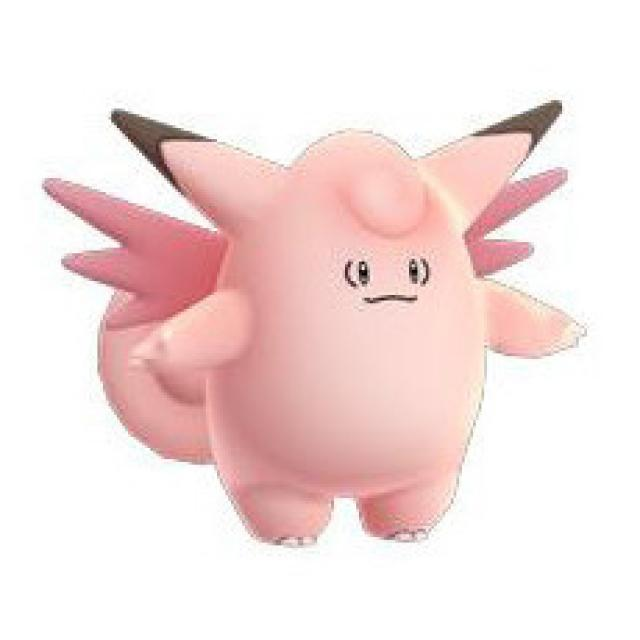Clefable: (139, 107, 519, 520)
